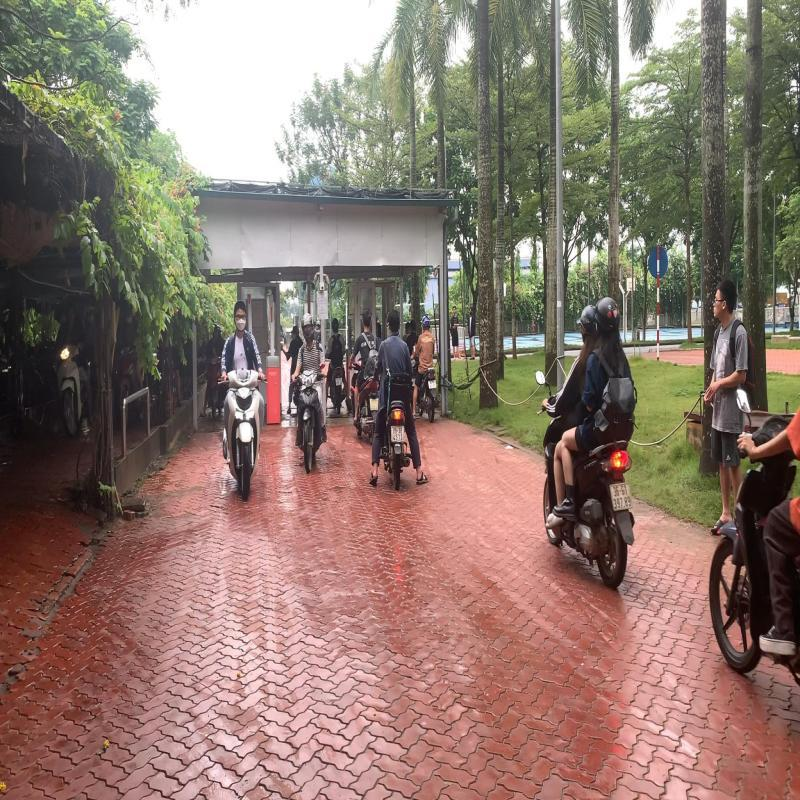nohelmet: (387, 308, 400, 336), (362, 308, 372, 331)
